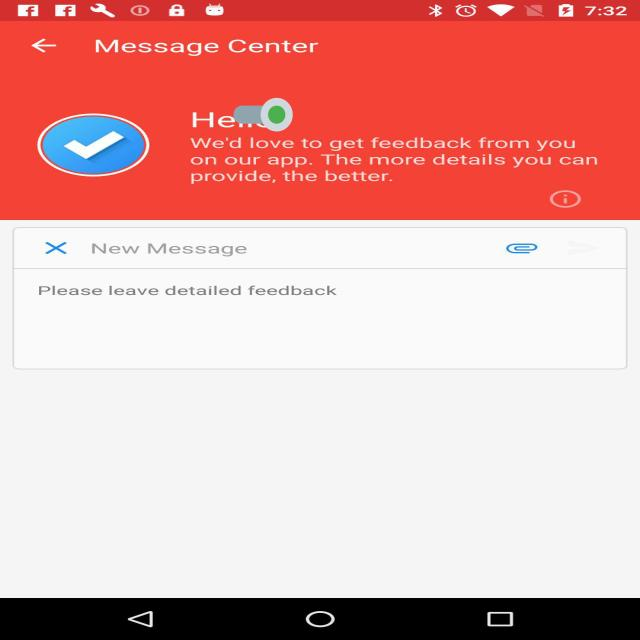social proof: (233, 84, 293, 146)
